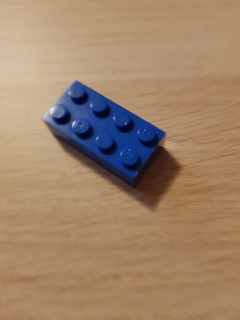2x4 blue: (41, 79, 167, 188)
